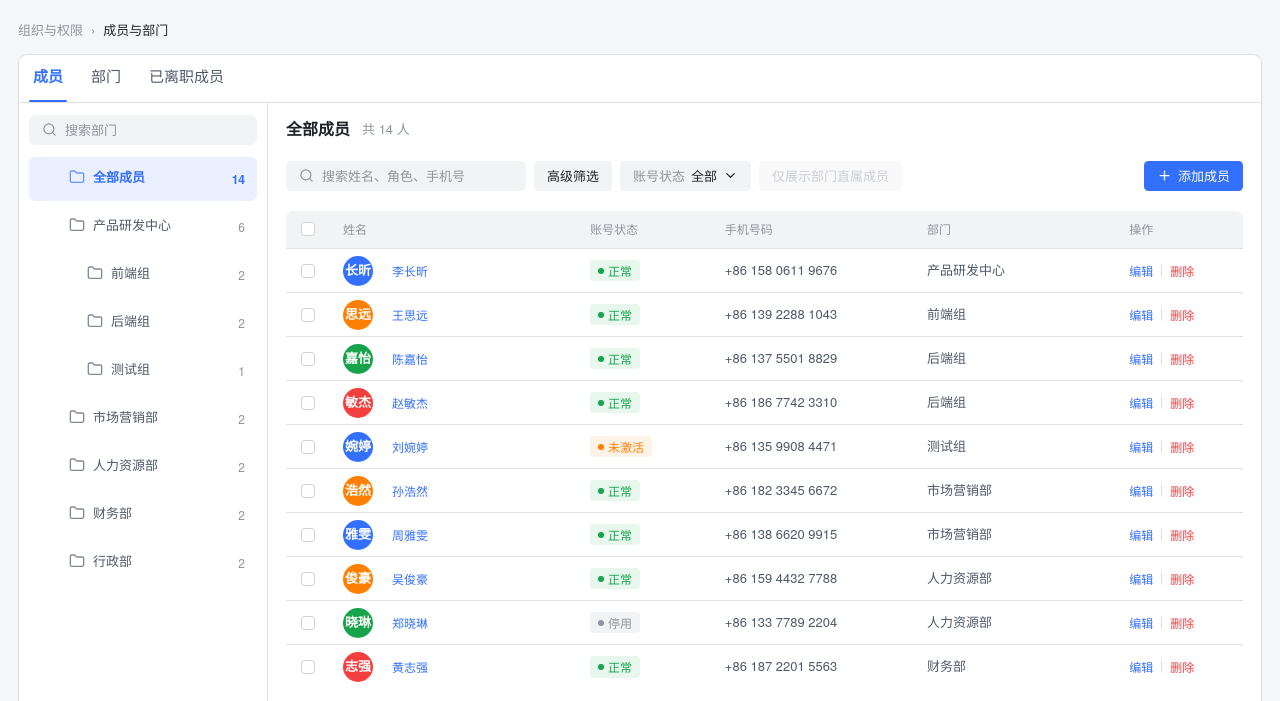
Test: members scene opens create and edit workflows from semantic callbacks
Expected: the text "李长昕" is shown, x1=392 y1=262 x2=428 y2=278
Click the button "添加成员" at [1194, 176], box x1=1144 y1=160 x2=1243 y2=190
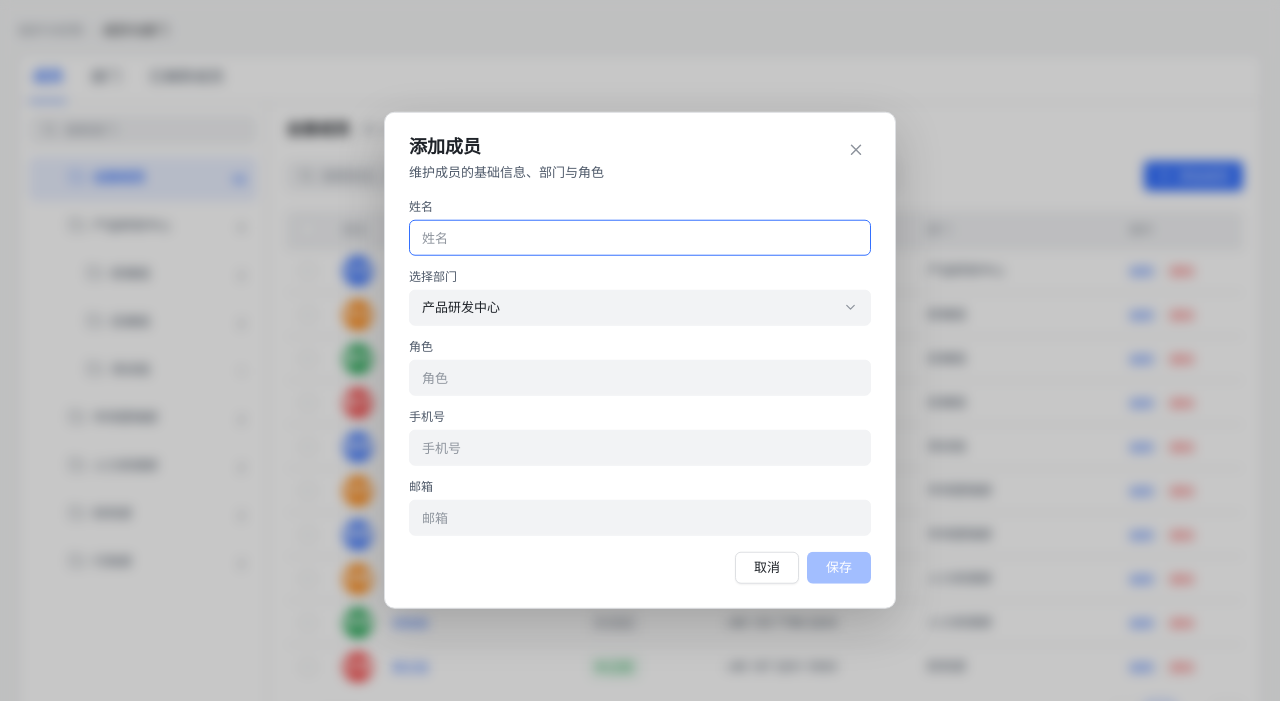
Expected: the dialog "添加成员" is shown, x1=384 y1=112 x2=896 y2=608
Click the button "取消" at [767, 567], box x1=735 y1=551 x2=799 y2=583
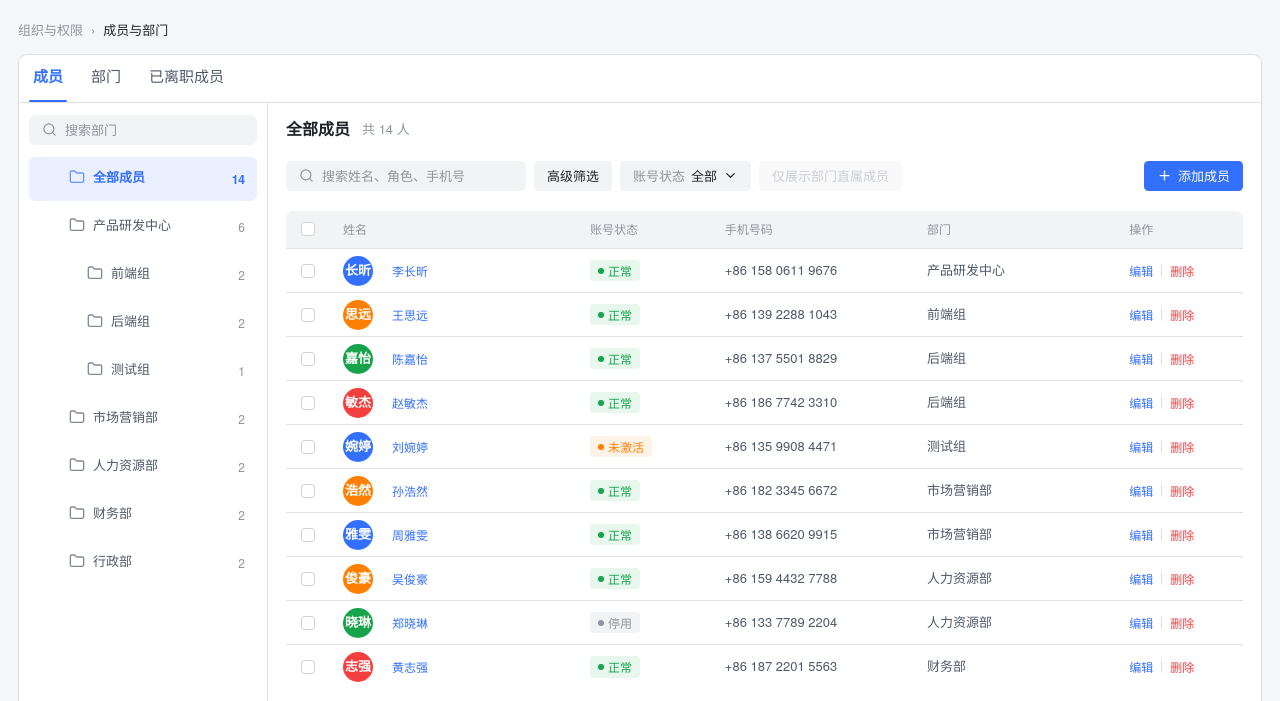
Click the button "编辑" in the row of "+86 158 0611 9676" at [1141, 270], box x1=1129 y1=258 x2=1153 y2=282
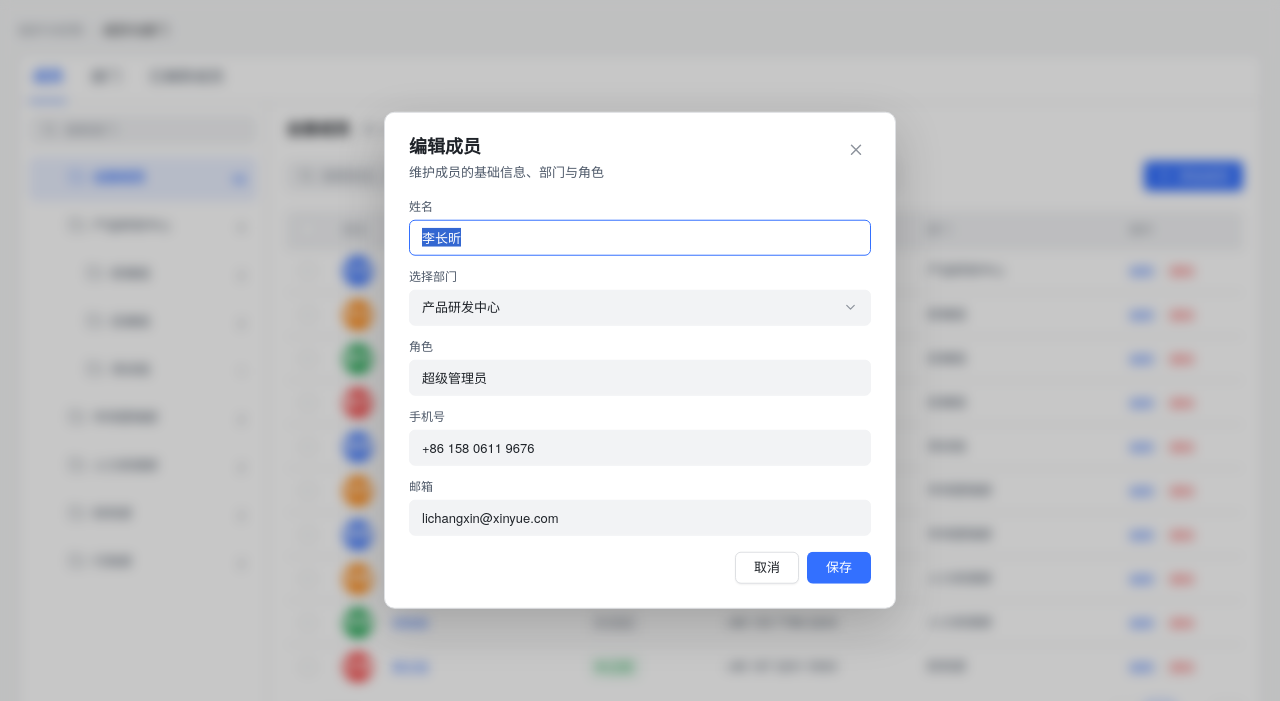
Expected: the dialog "编辑成员" is shown, x1=384 y1=112 x2=896 y2=608
